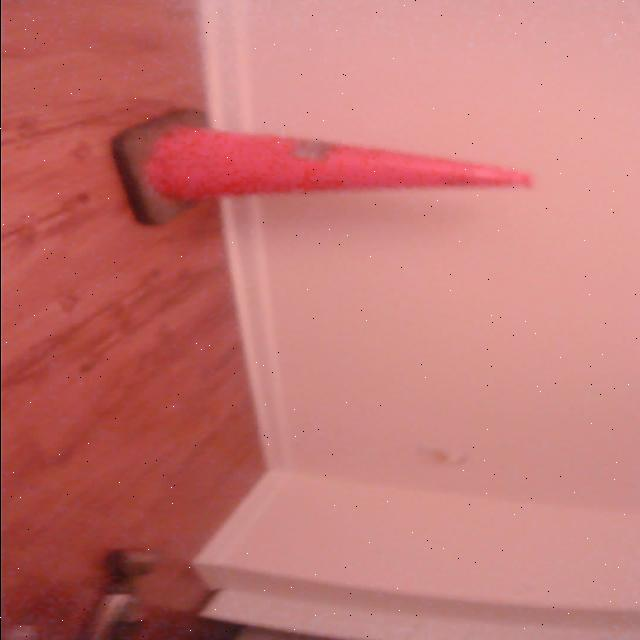traffic cone: (109, 104, 541, 232)
